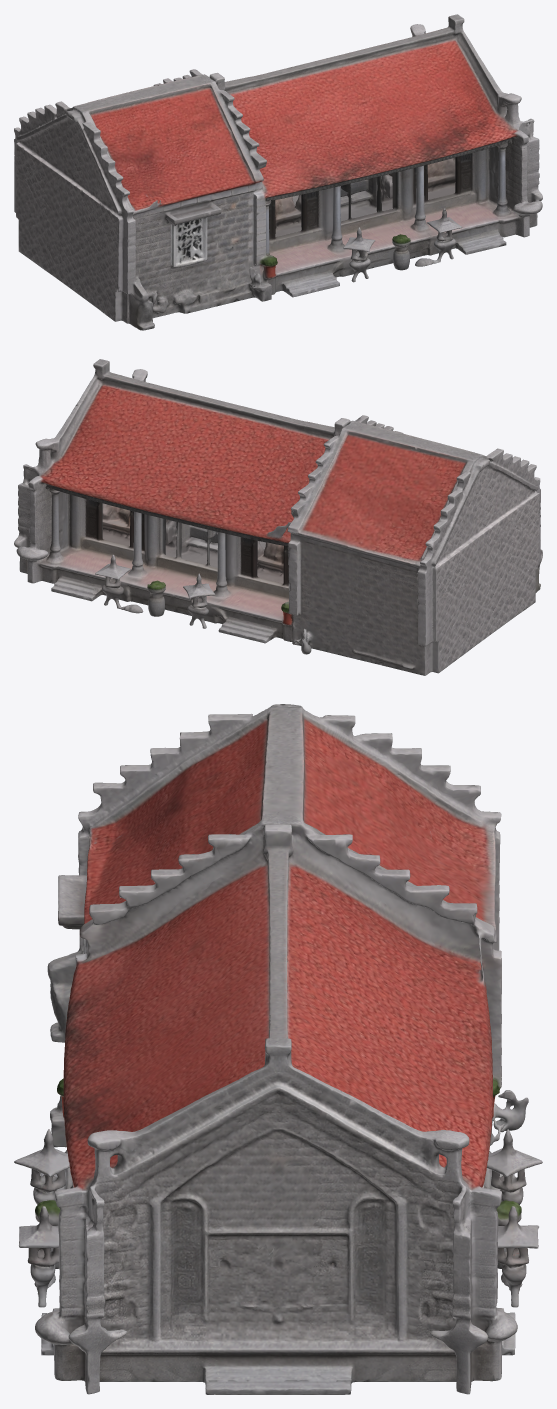
Rendered from Meshy_AI_Courtyard_of_the_Red__1009040213_texture.glb.
3 renders of one model, top to bottom at view 1: azimuth 30°, elevation 25°; view 2: azimuth 150°, elevation 25°; view 3: azimuth 270°, elevation 25°, orthographic. The views are drawn at different scales.
Size of the model in its own units: 1.9 by 0.771 by 1.13.
1 material, 1 textured.
